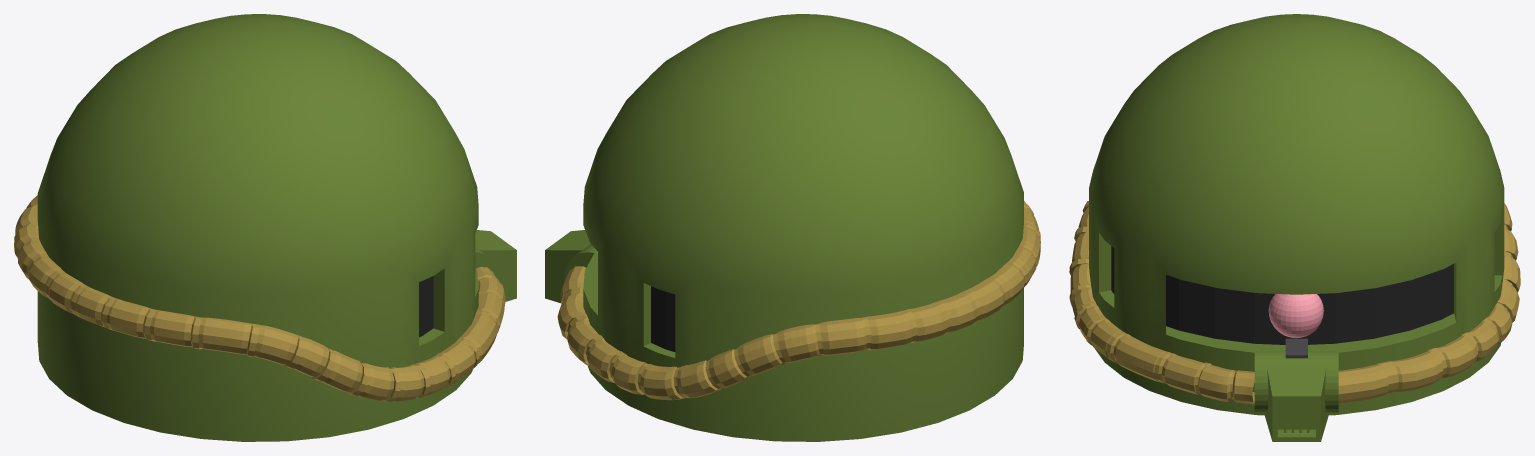
File: Hijack_head.glb
3 renders of one model, left to right at view 1: azimuth 30°, elevation 25°; view 2: azimuth 150°, elevation 25°; view 3: azimuth 270°, elevation 25°, orthographic. The views are drawn at different scales.
Parts seen in each view (by area): view 1: Sphere.001; view 2: Sphere.001; view 3: Sphere.001.
Part boxes in pixels (x1,y1,x2,y2): Sphere.001: (14,14,516,441); Sphere.001: (545,14,1040,441); Sphere.001: (1069,14,1520,441).
Size of the model in its own units: 2.33 by 1.54 by 2.13.
